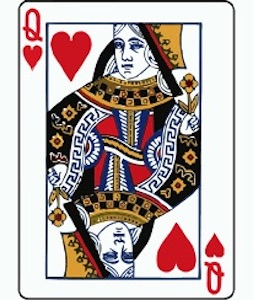QueenOfHearts: (17, 1, 237, 299)
